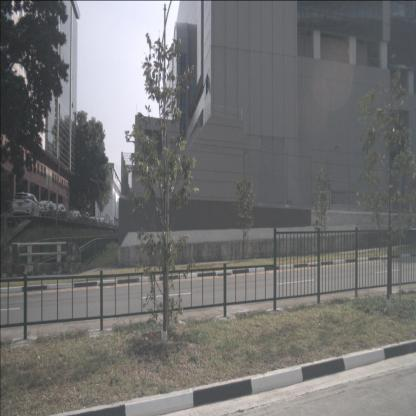vehicle-car: (12, 193, 42, 217), (37, 200, 58, 217), (52, 204, 67, 220), (68, 210, 82, 223), (78, 212, 91, 223), (89, 216, 98, 226)
